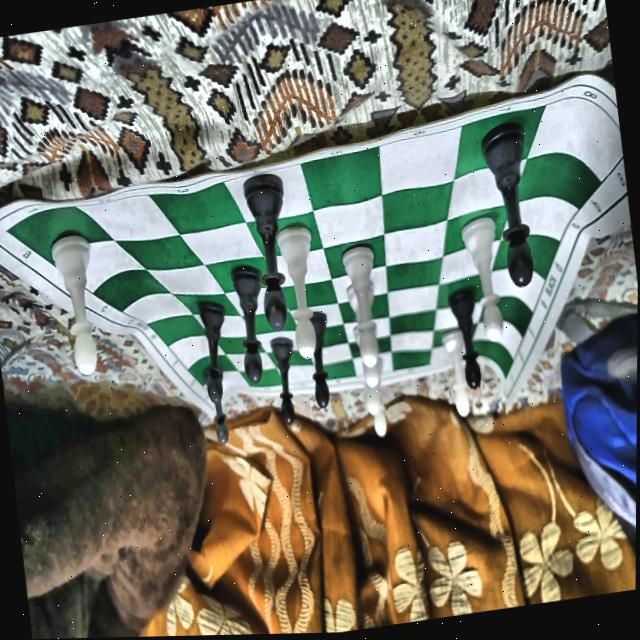BlackPawn: (472, 118, 543, 290), (239, 168, 301, 336), (227, 253, 276, 387), (192, 293, 237, 408), (296, 307, 339, 416), (446, 283, 488, 392), (266, 332, 303, 427), (199, 361, 235, 450)
WhitePawn: (47, 229, 109, 384), (272, 218, 329, 372), (458, 213, 511, 347), (338, 239, 388, 366), (343, 282, 386, 394), (437, 325, 477, 423), (361, 351, 394, 444)
